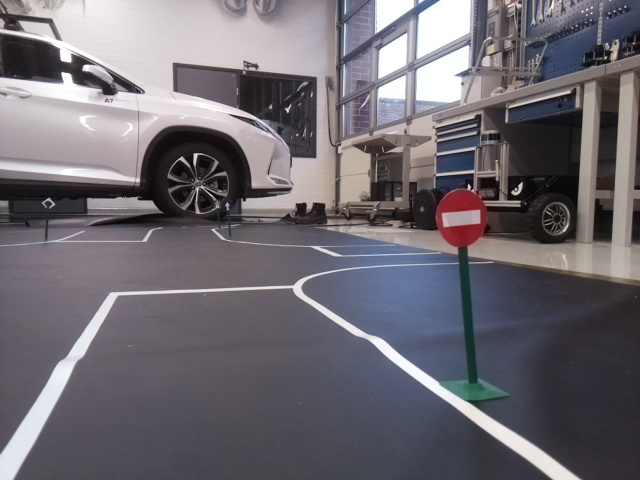NoEntry: (435, 190, 486, 247)
OneWay: (222, 200, 232, 212)
